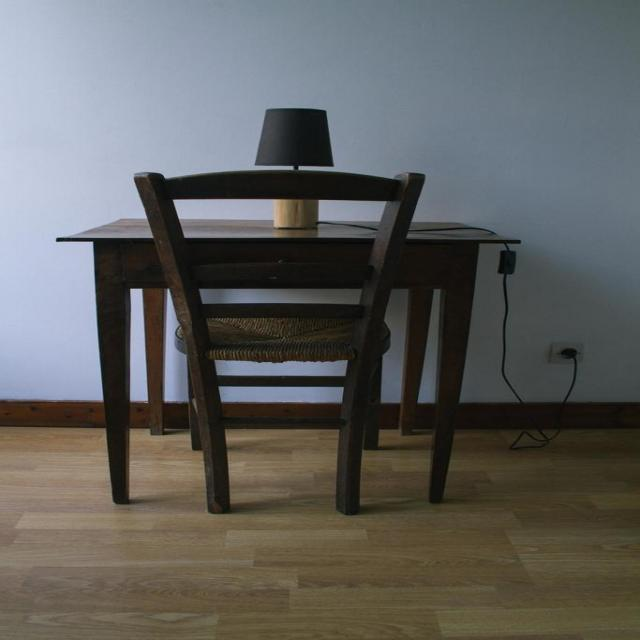table: (66, 192, 507, 486)
